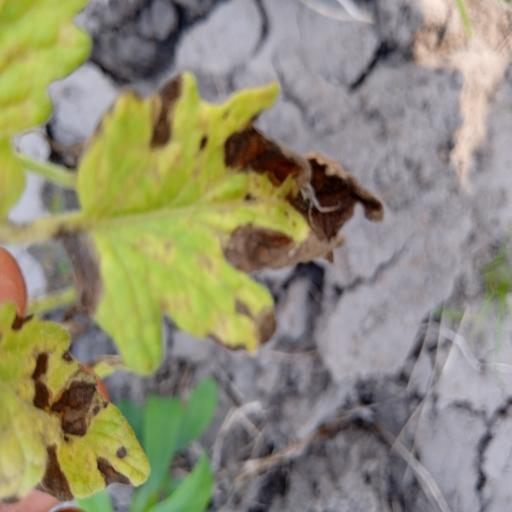Tomato_Brown_Spots: (67, 67, 389, 378), (0, 307, 148, 500)
